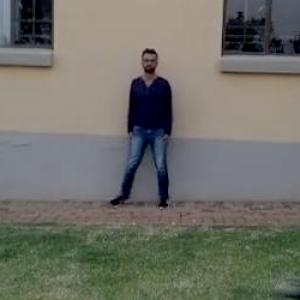follow: (126, 46, 175, 211)
